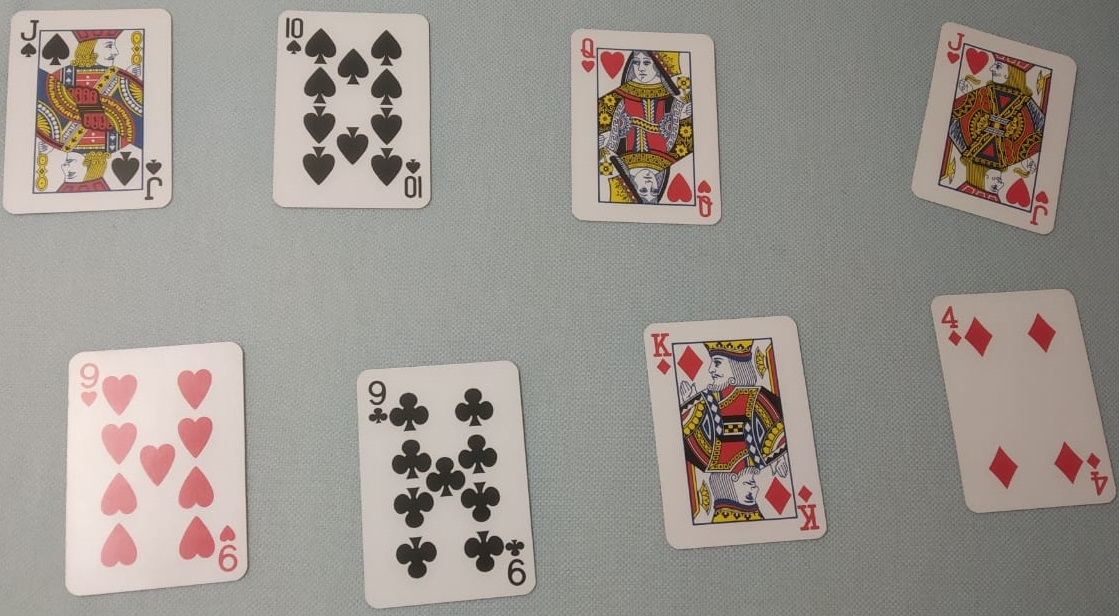four: (919, 278, 1120, 533)
jack: (1, 1, 195, 237), (895, 6, 1080, 247)
king: (623, 303, 854, 569)
nine: (34, 329, 275, 600), (331, 337, 553, 616)
queen: (550, 13, 734, 253)
ten: (247, 1, 457, 244)
